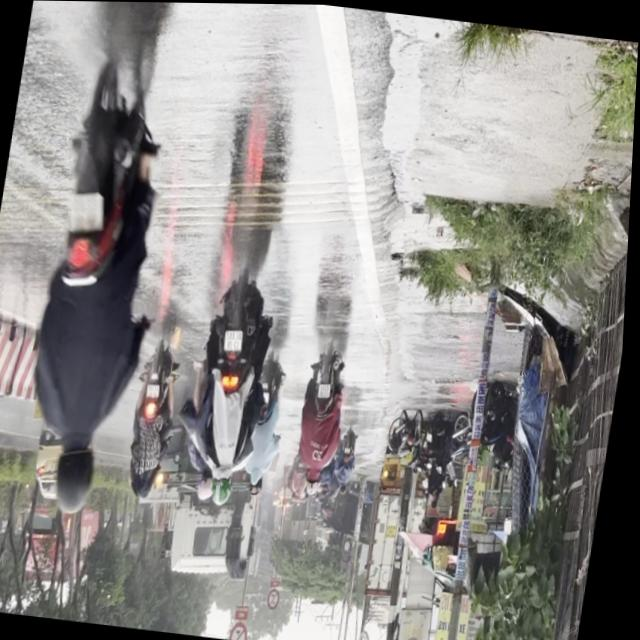helmet: (50, 438, 103, 517), (214, 471, 237, 505), (198, 470, 218, 502), (306, 469, 326, 496)
licenseplate: (9, 27, 192, 524), (178, 263, 283, 510), (121, 325, 190, 508), (289, 331, 358, 499)
nohelmet: (65, 190, 106, 233), (225, 328, 246, 352), (148, 383, 162, 398), (320, 381, 333, 397)
